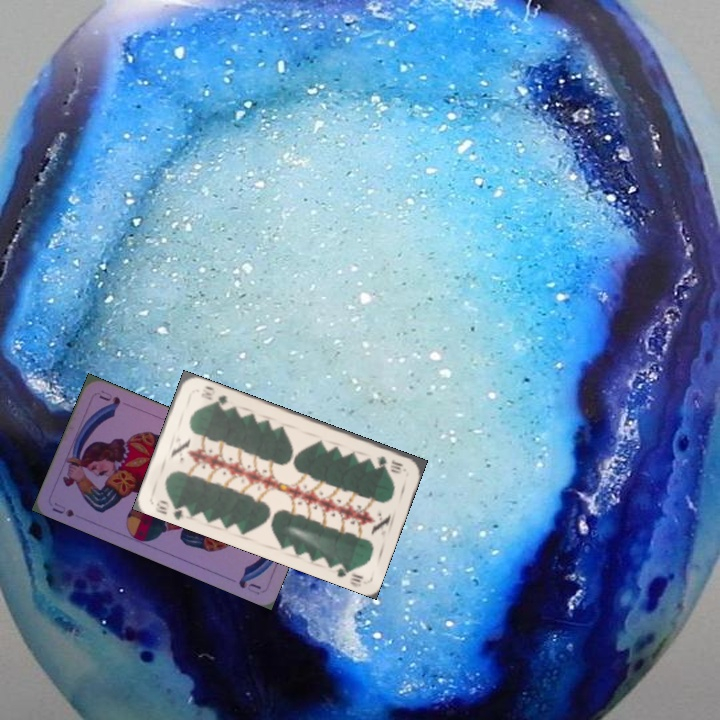G10: (151, 496, 191, 522), (372, 452, 406, 474)
SU: (48, 498, 77, 520)
